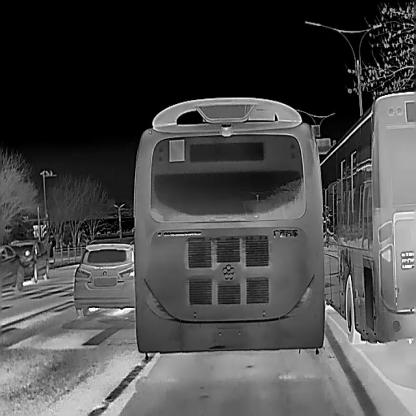bus: (125, 88, 324, 352), (319, 90, 415, 345)
car: (72, 234, 135, 316), (10, 238, 48, 281), (0, 242, 22, 290)
